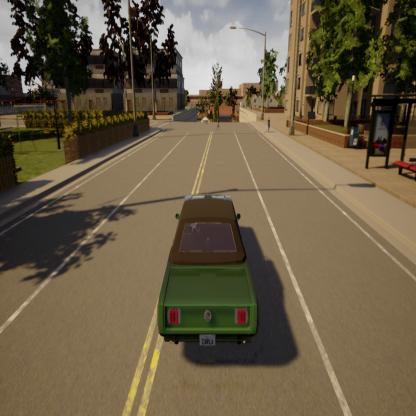Cars: (151, 191, 268, 354)
Pedestrian: (265, 115, 272, 136), (215, 113, 222, 131)
